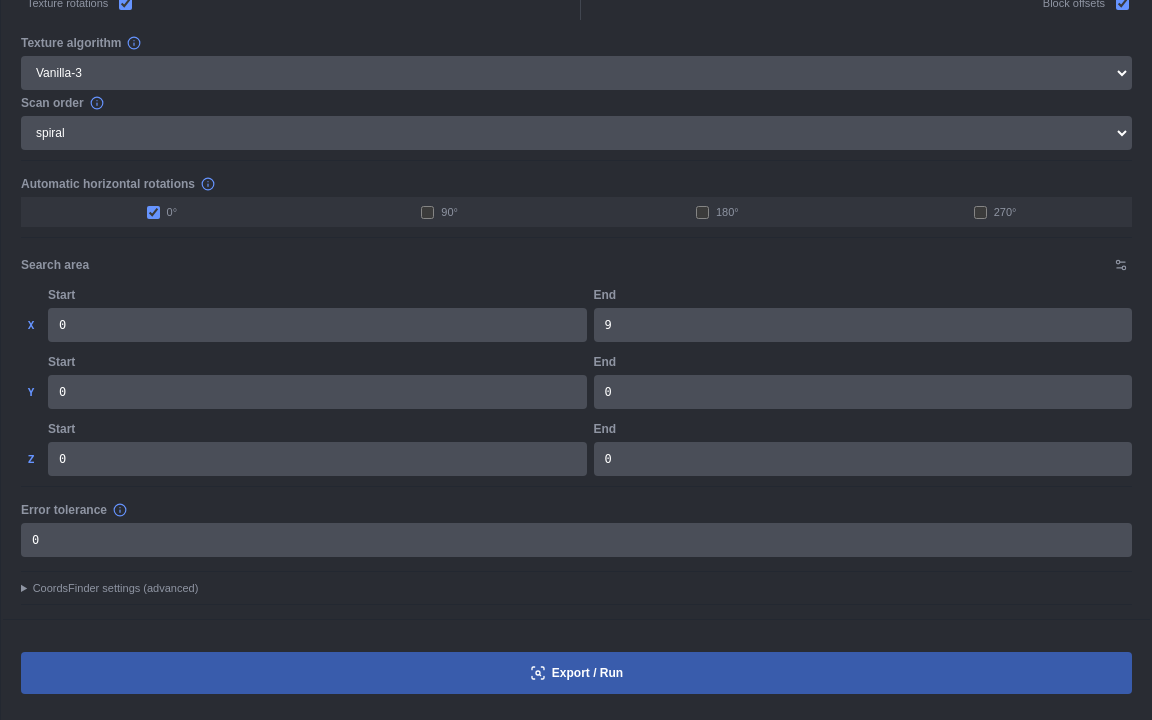
Export / Run workspace › restores intermediate counts and represents unconstrained Y correctly
(page scrolled)
Click the button "Export / Run" at {"x": 576, "y": 673}, box [21,652,1132,694]
(page scrolled)
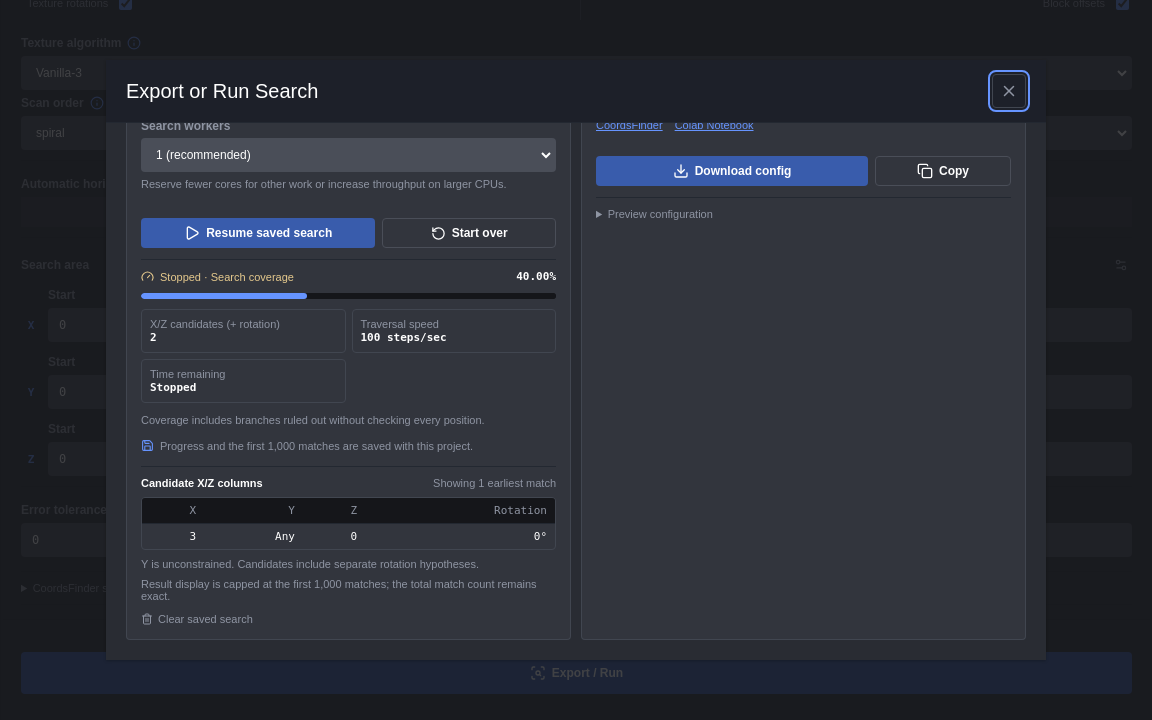
Now the row "3 Any 0 0°" is shown, box [142,524,555,549]
